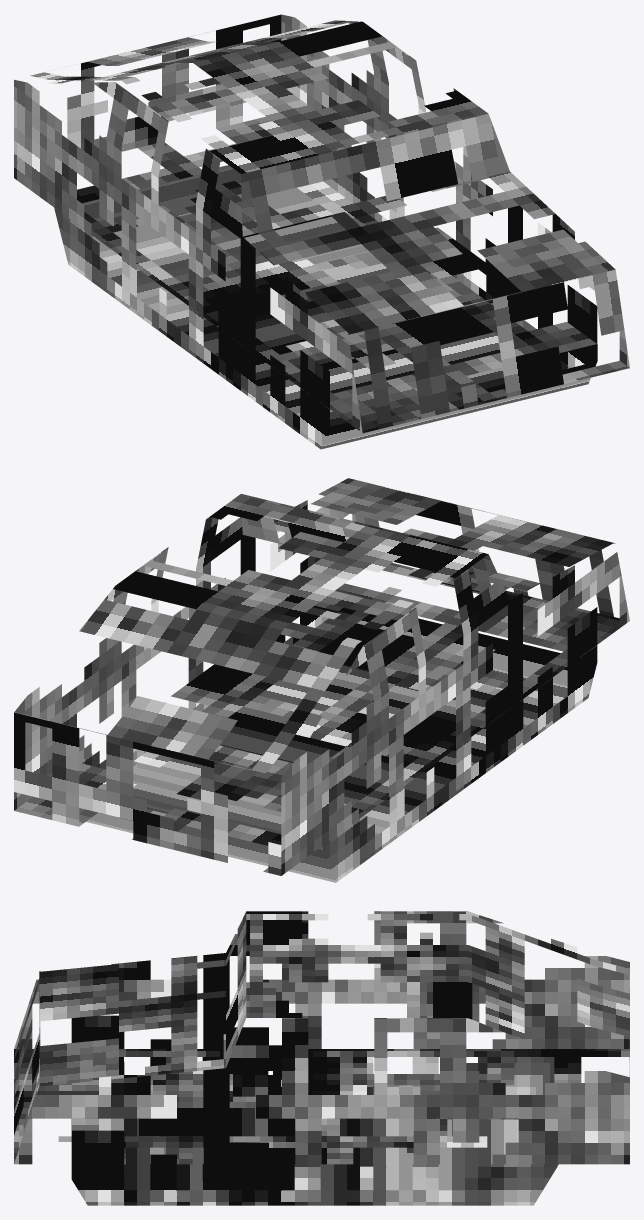
Rendered from armoredcar_wreck.glb.
The picture shows the model from 3 angles, top to bottom: view 1: azimuth 30°, elevation 25°; view 2: azimuth 150°, elevation 25°; view 3: azimuth 270°, elevation 25°; orthographic projection. The views are drawn at different scales.
Parts seen in each view (by area): view 1: Hummer; view 2: Hummer; view 3: Hummer.
Part boxes in pixels (x1,y1,x2,y2): Hummer: (14,14,629,449); Hummer: (14,478,629,882); Hummer: (14,911,629,1205).
Size of the model in its own units: 2.19 by 1.62 by 4.95.
Materials: 1 (1 with a texture image).
